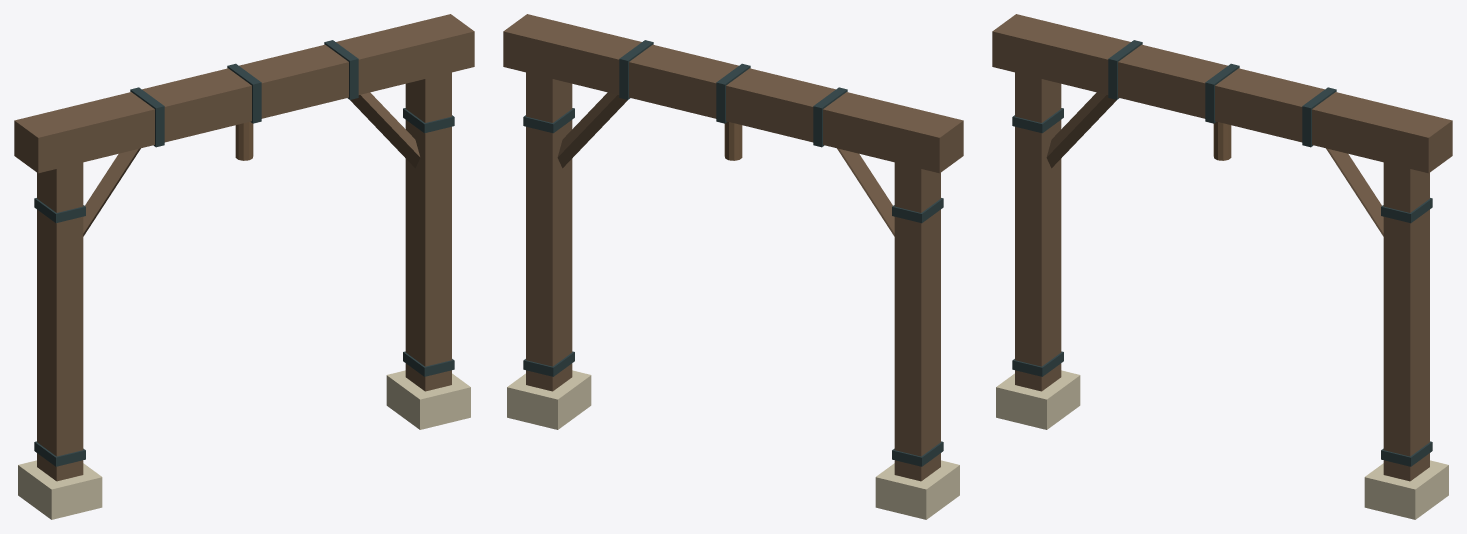
File: GantryBay.glb
3 renders of one model, left to right at view 1: azimuth 30°, elevation 25°; view 2: azimuth 150°, elevation 25°; view 3: azimuth 330°, elevation 25°, orthographic.
Parts seen in each view (by area): view 1: Gantry crossbeam, Timber upright, Timber upright.001, Stone foot, Stone foot.001, Diagonal knee.001, Diagonal knee, Bell hanging shank, Crossbeam strap.001, Crossbeam strap, Crossbeam strap.002, Iron collar.002 (+3 smaller); view 2: Gantry crossbeam, Timber upright, Timber upright.001, Stone foot, Stone foot.001, Diagonal knee.001, Diagonal knee, Bell hanging shank, Crossbeam strap.001, Crossbeam strap, Crossbeam strap.002, Iron collar.002 (+3 smaller); view 3: Gantry crossbeam, Timber upright.001, Timber upright, Stone foot, Stone foot.001, Diagonal knee, Diagonal knee.001, Bell hanging shank, Crossbeam strap.001, Crossbeam strap, Crossbeam strap.002, Iron collar (+3 smaller).
Boxes of the visible parts, <box> form: Gantry crossbeam: <box>14,14,474,173</box>; Timber upright: <box>37,162,83,481</box>; Timber upright.001: <box>405,72,451,391</box>; Stone foot: <box>18,460,102,519</box>; Stone foot.001: <box>386,370,470,429</box>; Diagonal knee.001: <box>350,92,420,168</box>; Diagonal knee: <box>83,148,140,236</box>; Bell hanging shank: <box>235,122,253,160</box>; Crossbeam strap.001: <box>227,63,261,123</box>; Crossbeam strap: <box>130,87,164,147</box>; Crossbeam strap.002: <box>324,40,358,99</box>; Iron collar.002: <box>403,351,454,376</box>; Gantry crossbeam: <box>503,14,963,173</box>; Timber upright: <box>894,162,940,481</box>; Timber upright.001: <box>526,72,572,391</box>; Stone foot: <box>875,460,959,519</box>; Stone foot.001: <box>507,370,591,429</box>; Diagonal knee.001: <box>557,92,627,168</box>; Diagonal knee: <box>837,148,894,236</box>; Bell hanging shank: <box>724,122,742,160</box>; Crossbeam strap.001: <box>716,63,750,123</box>; Crossbeam strap: <box>813,87,847,147</box>; Crossbeam strap.002: <box>619,40,653,99</box>; Iron collar.002: <box>523,351,574,376</box>; Gantry crossbeam: <box>992,14,1452,173</box>; Timber upright.001: <box>1383,162,1429,481</box>; Timber upright: <box>1015,72,1061,391</box>; Stone foot: <box>996,370,1080,429</box>; Stone foot.001: <box>1364,460,1448,519</box>; Diagonal knee: <box>1046,92,1116,168</box>; Diagonal knee.001: <box>1326,148,1383,236</box>; Bell hanging shank: <box>1213,122,1231,160</box>; Crossbeam strap.001: <box>1205,63,1239,123</box>; Crossbeam strap: <box>1108,40,1142,99</box>; Crossbeam strap.002: <box>1302,87,1336,147</box>; Iron collar: <box>1012,351,1063,376</box>.
Size of the model in its own units: 9 by 7.54 by 1.2.
